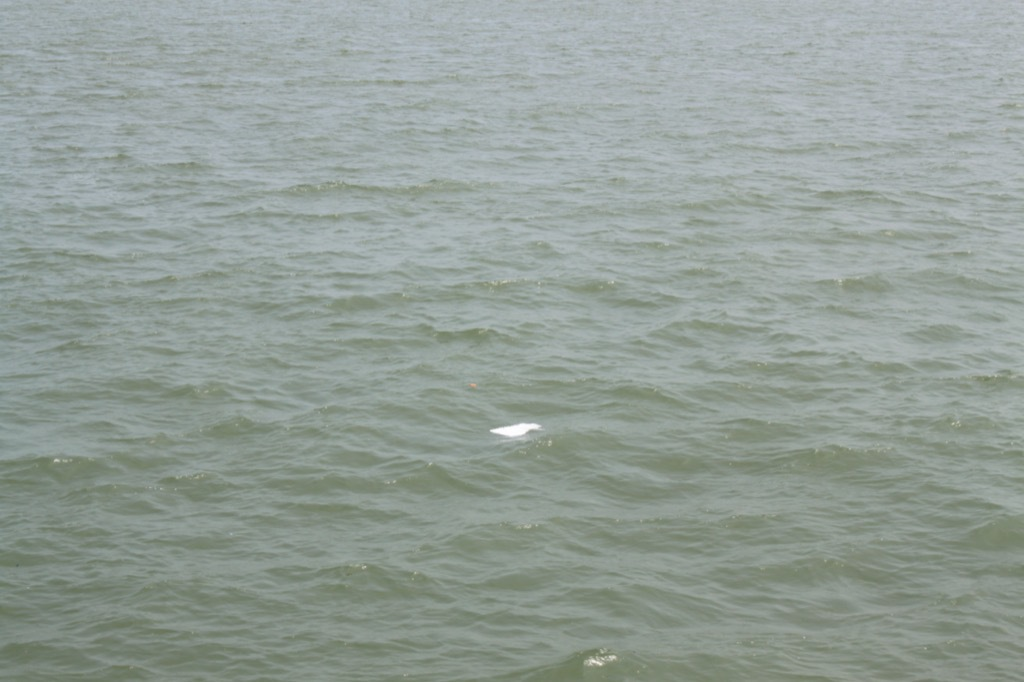plastic: (480, 414, 558, 456), (458, 373, 490, 397)
